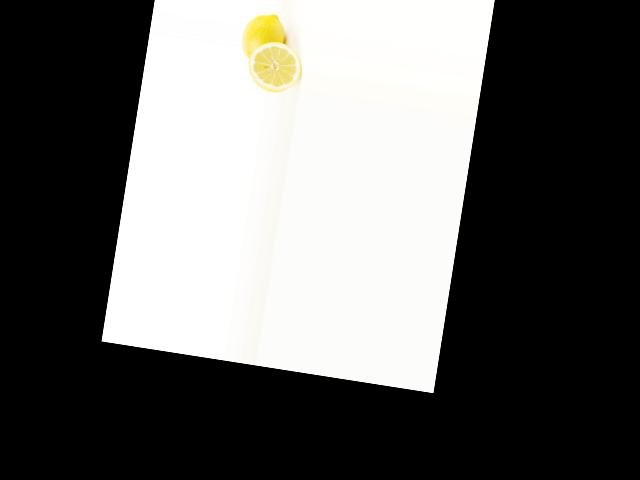lemon: (239, 8, 293, 66)
